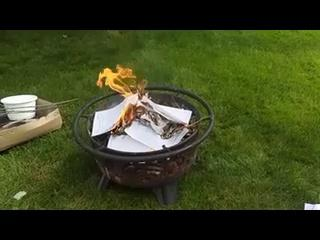Fire: (108, 58, 156, 134)
